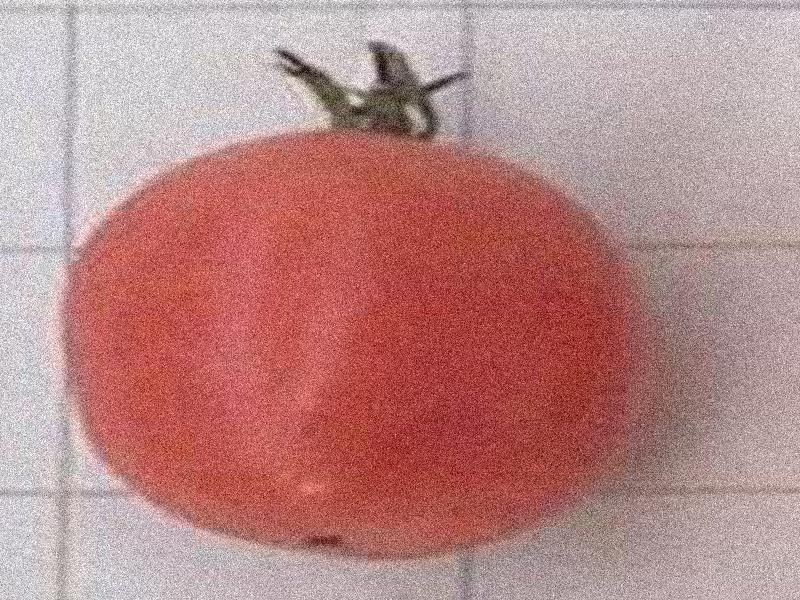Tomato: (64, 132, 648, 560)
